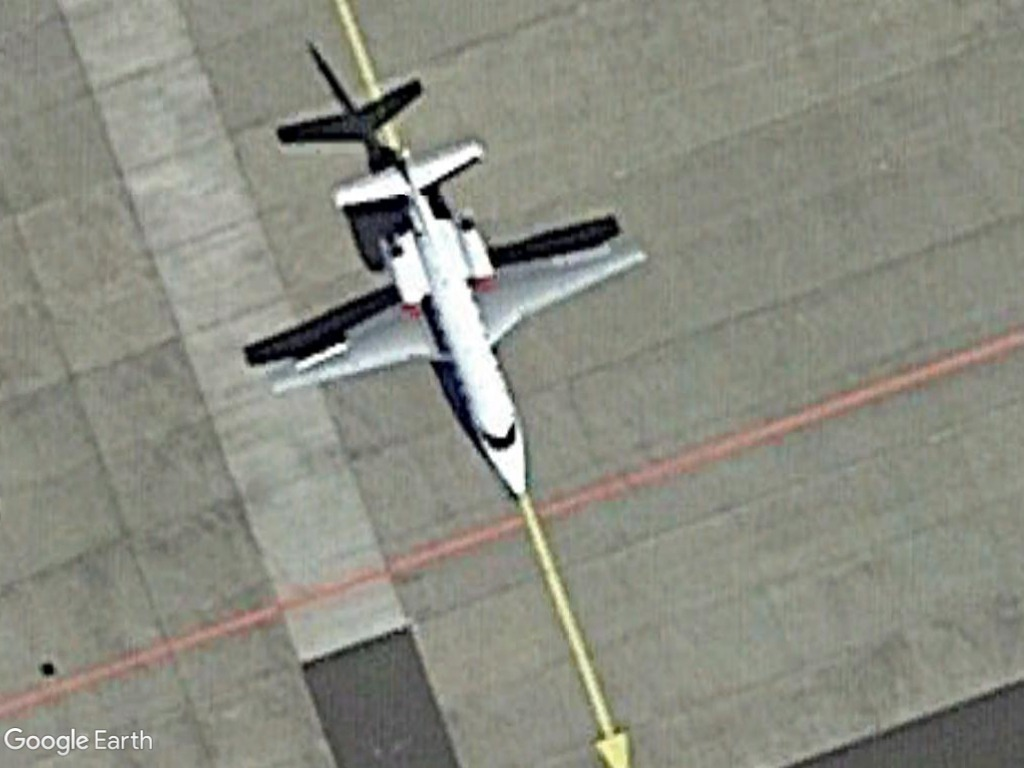chartered: (254, 121, 659, 493)
